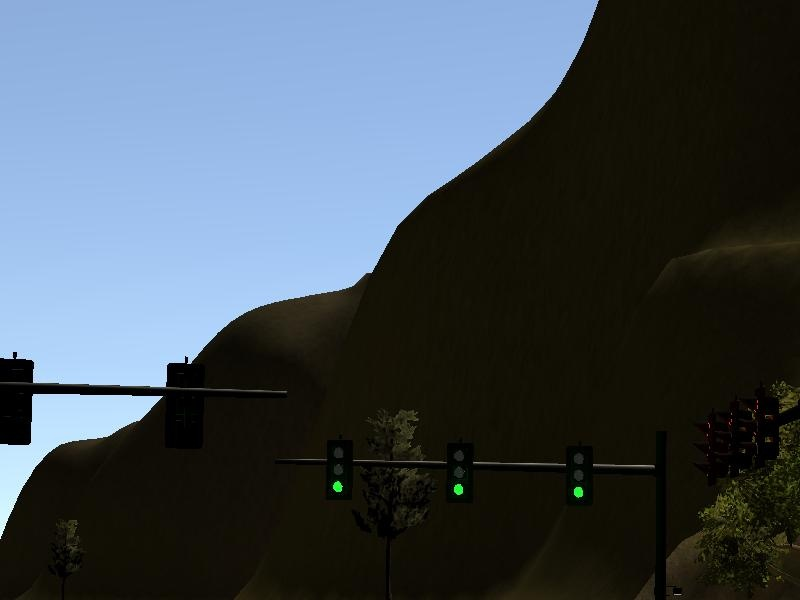green: (445, 443, 474, 504), (568, 447, 596, 507), (327, 441, 354, 501)
